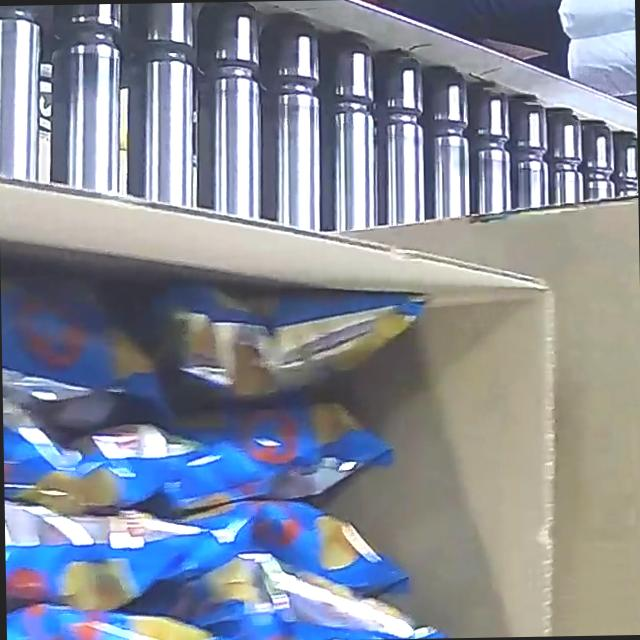paprika: (0, 222, 453, 640)
